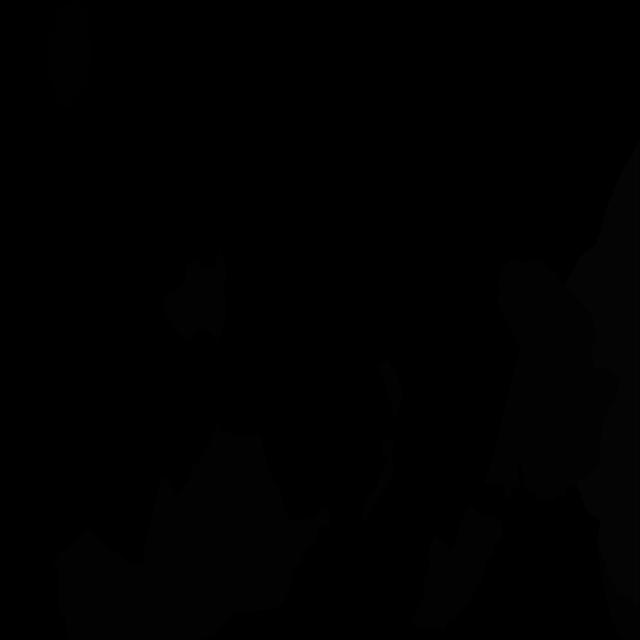cardboard: (52, 420, 330, 640), (483, 257, 620, 502), (410, 506, 503, 630), (163, 251, 226, 342), (598, 541, 640, 639), (362, 439, 394, 523), (377, 359, 403, 417)
rigid_plastic: (48, 1, 92, 109)
soft_plastic: (564, 138, 640, 609)
